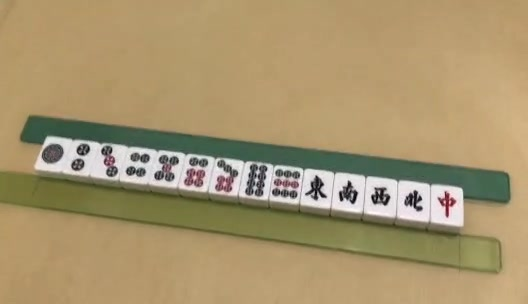1p: (41, 143, 63, 163)
1z: (305, 175, 327, 201)
2p: (71, 145, 89, 170)
2z: (338, 182, 358, 203)
3p: (101, 146, 117, 176)
3z: (372, 189, 391, 207)
4p: (126, 153, 150, 178)
4z: (403, 190, 423, 212)
5p: (155, 155, 179, 182)
6p: (184, 158, 207, 187)
7p: (215, 160, 238, 193)
7z: (439, 192, 455, 217)
8p: (246, 164, 268, 198)
9p: (273, 170, 299, 198)
